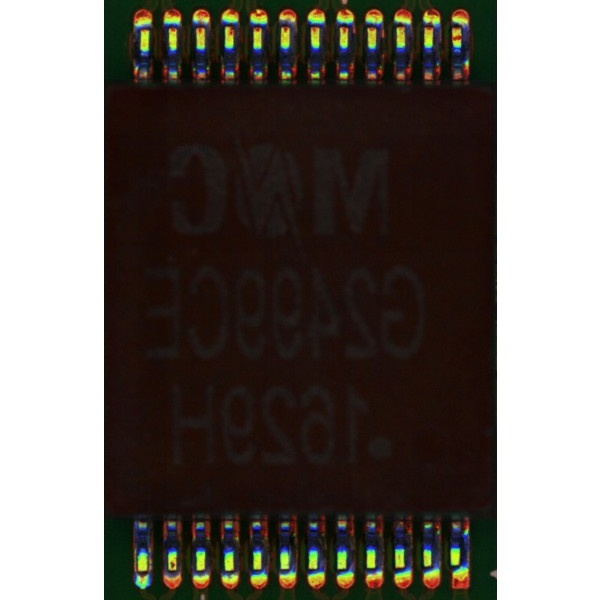Bad_qiaojiao: (148, 538, 153, 572), (133, 542, 138, 572)
